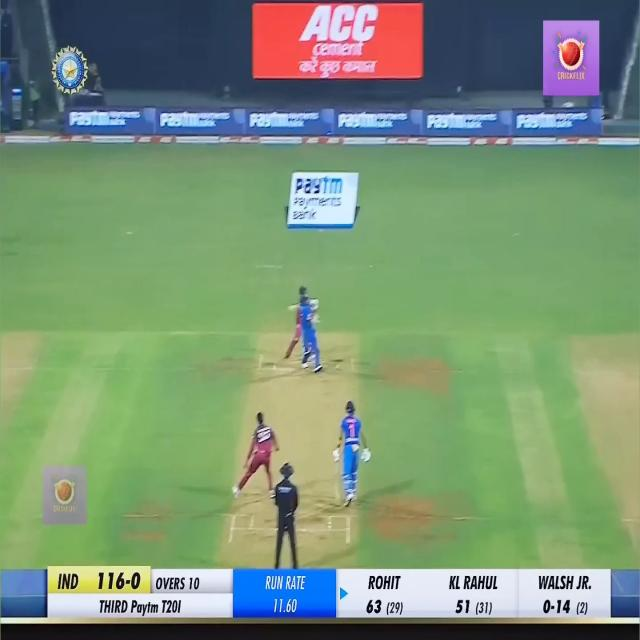fully_visible: (159, 106, 201, 135), (294, 176, 343, 197), (159, 106, 199, 131), (248, 107, 288, 130), (68, 106, 109, 128), (424, 111, 468, 131), (338, 111, 376, 131), (130, 596, 158, 620)
